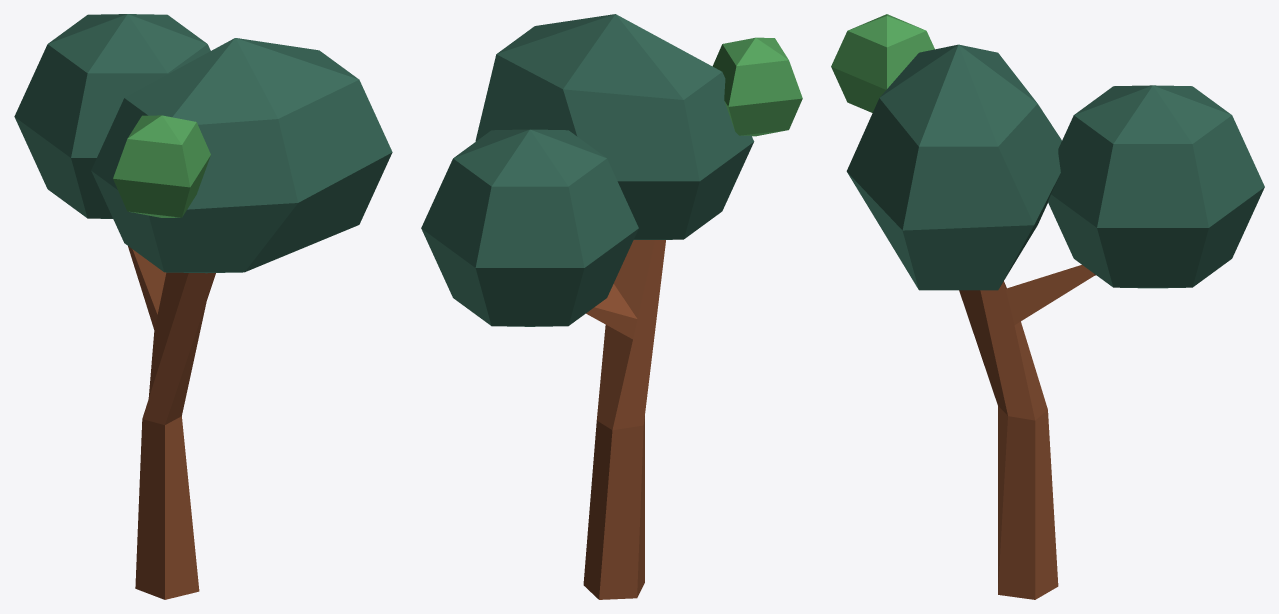
Rendered from tree1.fbx.
3 views of the same model, side by side, from view 1: azimuth 30°, elevation 25°; view 2: azimuth 150°, elevation 25°; view 3: azimuth 270°, elevation 25° (orthographic). The views are drawn at different scales.
Parts seen in each view (by area): view 1: tree; view 2: tree; view 3: tree.
Boxes of the visible parts, box(x1,y1,x2,y2) form: tree: box(14, 14, 392, 599); tree: box(421, 14, 802, 599); tree: box(831, 14, 1264, 599).
Size of the model in its own units: 87.92 by 165 by 116.
